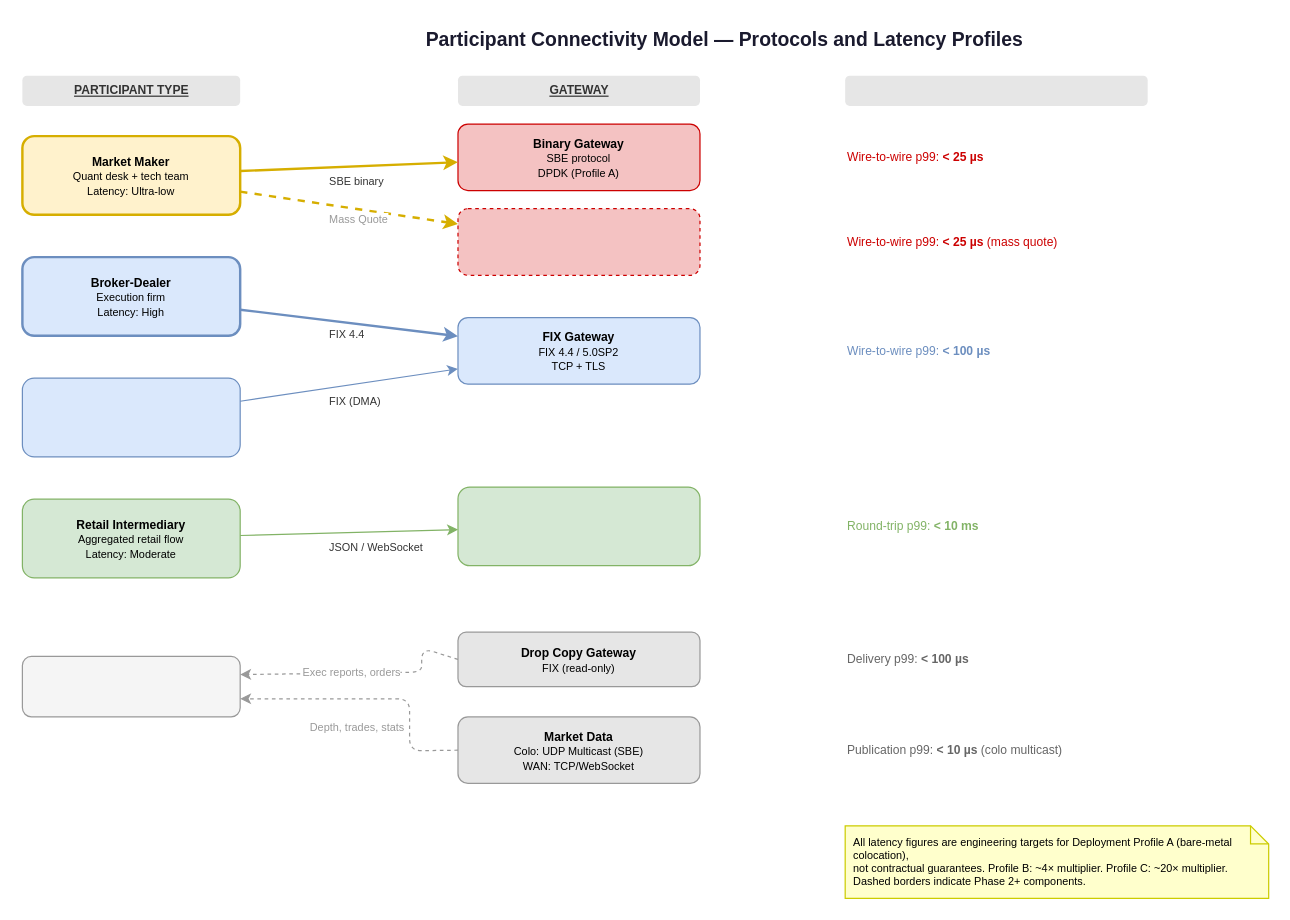
Some shapes in this 1290 by 920 pixel diagram are drawn without their labels. The centre of each missing label's shape, as x and y in pixels:
All Participants (receiving side): the point at 130,686
Buy-Side (DMA) Asset mgr / hedge fund Latency: High: the point at 130,417
LATENCY TARGET (Profile A): the point at 996,90
MM Quote Gateway Mass quote + CoD Phase 2+: the point at 578,241
WebSocket / REST Gateway JSON over WSS / HTTPS API key + HMAC / OAuth: the point at 578,526
